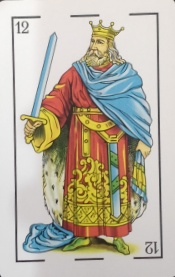12e: (10, 10, 161, 37)
